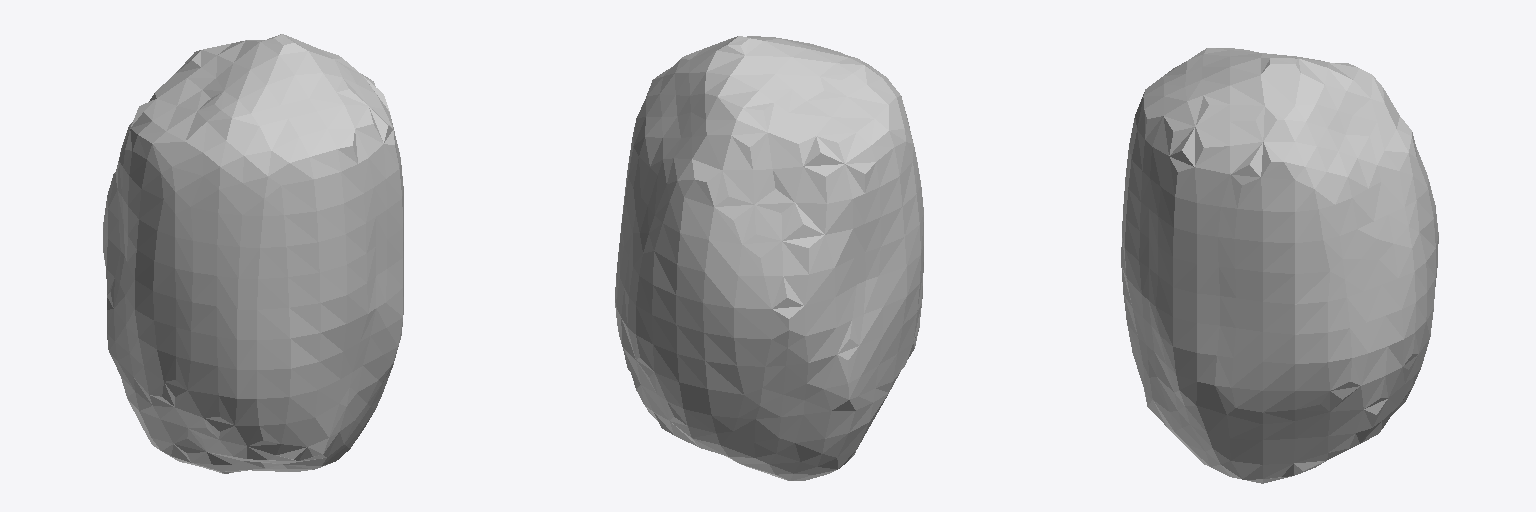
The model's file is C3_Stone2.obj.
3 renders of one model, left to right at view 1: azimuth 30°, elevation 25°; view 2: azimuth 150°, elevation 25°; view 3: azimuth 270°, elevation 25°, orthographic.
Visible parts, largest first — view 1: Куб.008; view 2: Куб.008; view 3: Куб.008.
Part boxes in pixels (left/top/right/bottom): Куб.008: left=103, top=34, right=403, bottom=473; Куб.008: left=615, top=36, right=923, bottom=480; Куб.008: left=1121, top=48, right=1438, bottom=483.
Bounding box in the file's own units: 3.61 × 5.54 × 3.82.